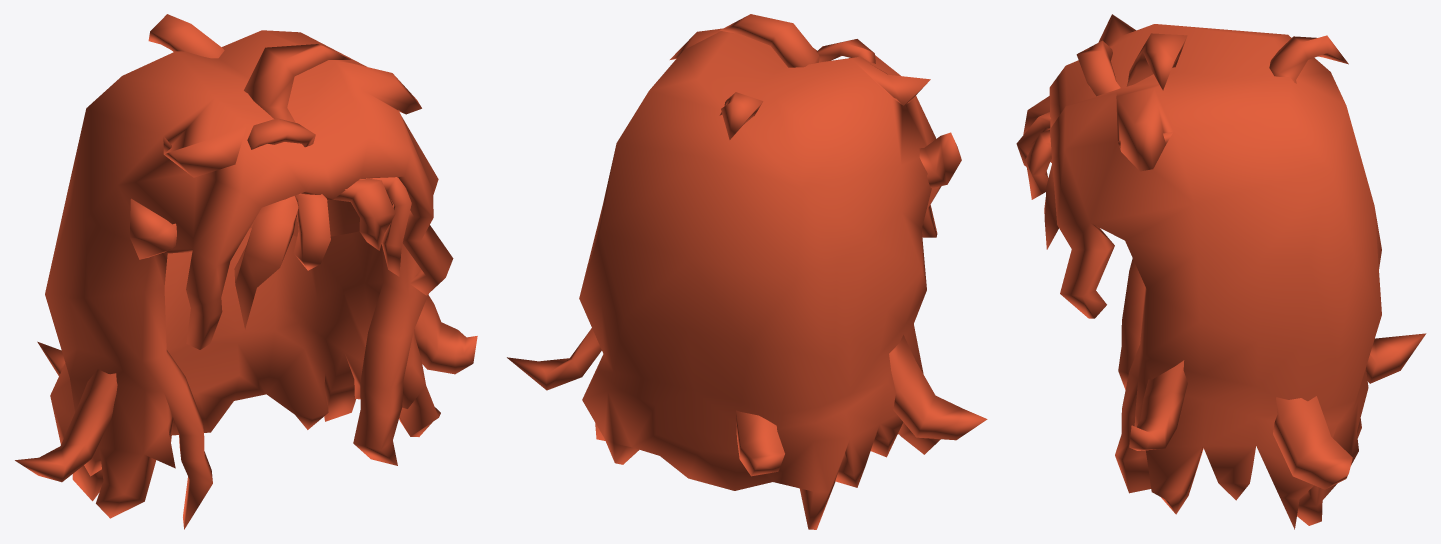
The model's file is Hair_LongCurlyMullet.glb.
The picture shows the model from 3 angles, left to right: view 1: azimuth 30°, elevation 25°; view 2: azimuth 150°, elevation 25°; view 3: azimuth 270°, elevation 25°; orthographic projection. The views are drawn at different scales.
Visible parts, largest first — view 1: Hair_LongCurlyMullet; view 2: Hair_LongCurlyMullet; view 3: Hair_LongCurlyMullet.
Part boxes in pixels (bbox=[...]): Hair_LongCurlyMullet: bbox=[15, 14, 477, 529]; Hair_LongCurlyMullet: bbox=[507, 14, 987, 529]; Hair_LongCurlyMullet: bbox=[1016, 14, 1426, 529].
Bounding box in the file's own units: 1.02 × 1.02 × 0.8183.
